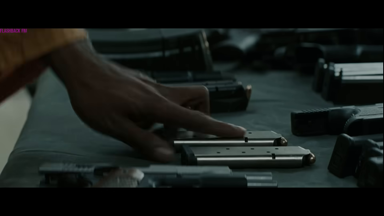firearm: (288, 100, 382, 186), (38, 158, 281, 186), (167, 129, 318, 166)
